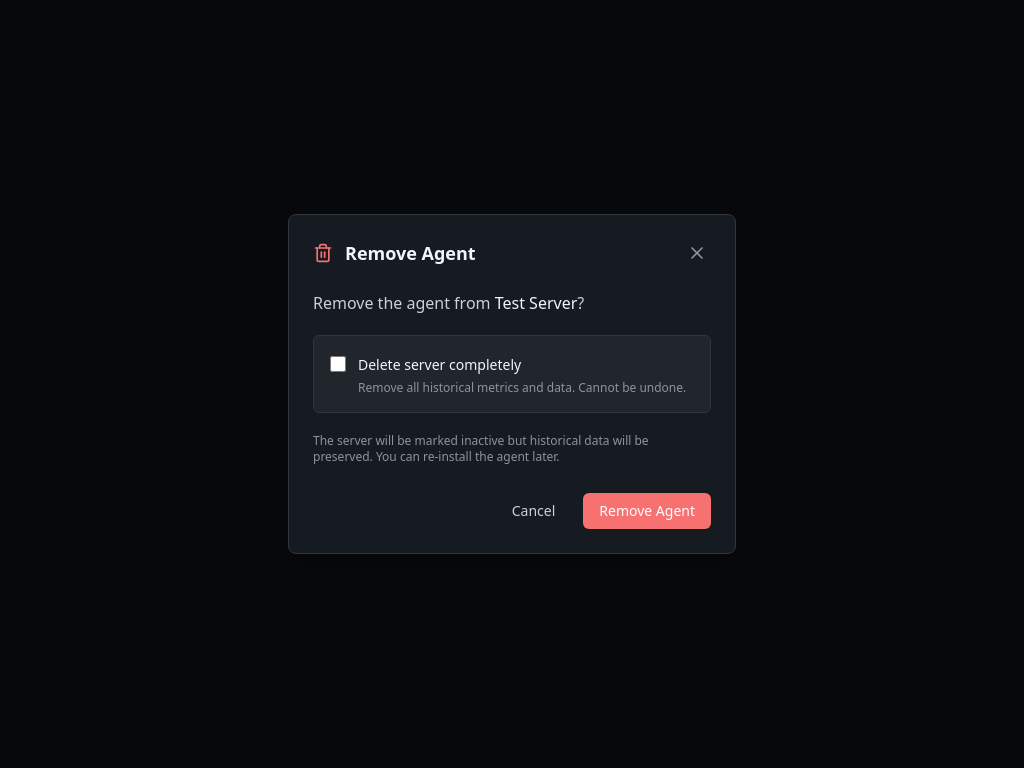
Test: AgentRemoveModal › shows error on failure
The image size is (1024, 768).
Click the button with test id "confirm-remove-button". click: [647, 511]
box: [583,493,711,529]
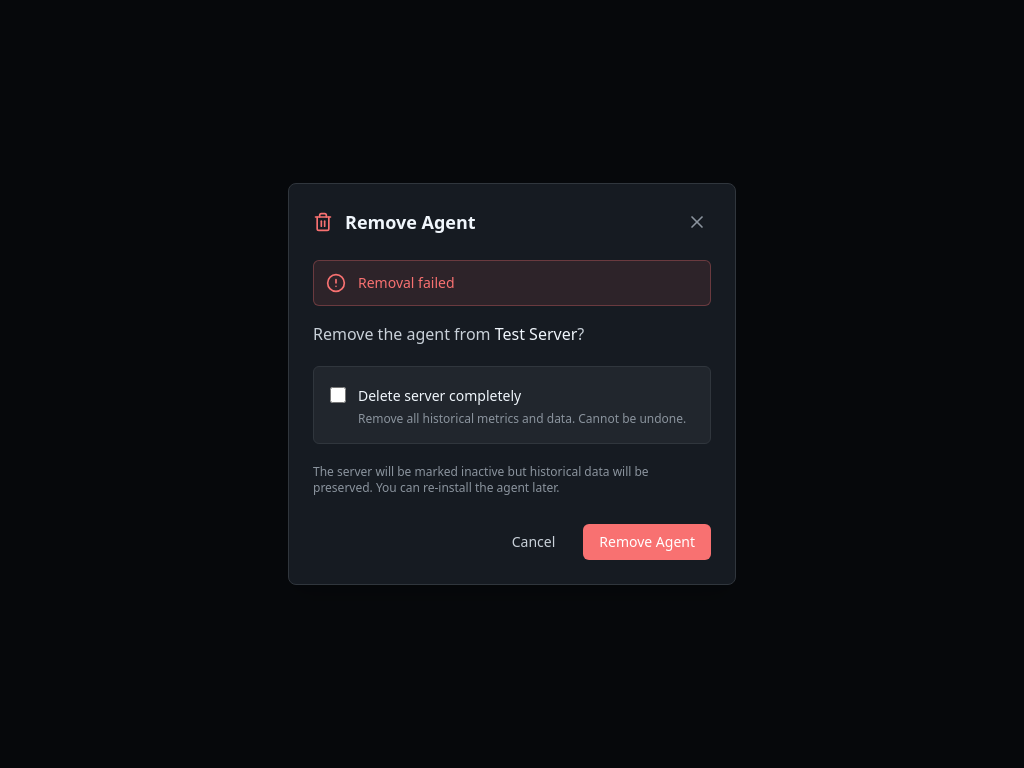
Expected: the text "Removal failed" is shown, [358,273,454,293]
